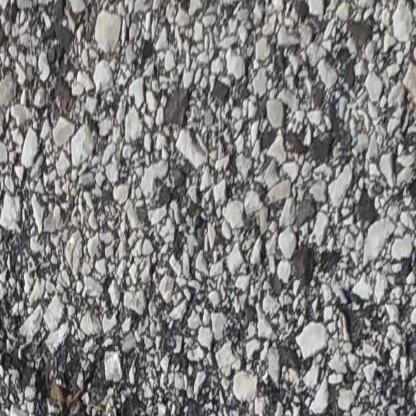Cracks: (0, 335, 169, 416)
